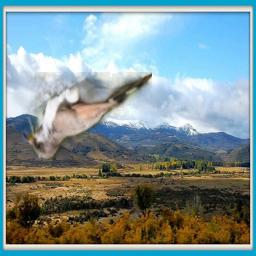Cuckoo: (22, 72, 152, 159)
